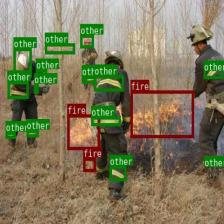fire: (130, 90, 194, 137), (66, 114, 100, 149), (83, 157, 95, 171)
